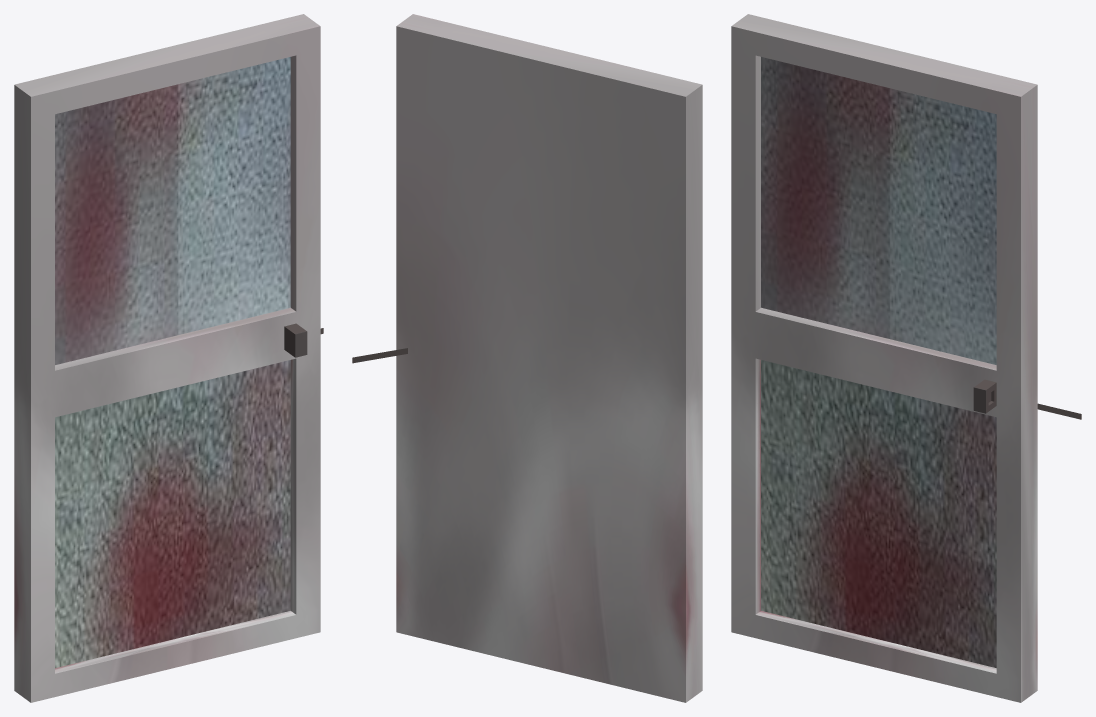
File: Puerta_18.fbx
3 views of the same model, side by side, from view 1: azimuth 30°, elevation 25°; view 2: azimuth 150°, elevation 25°; view 3: azimuth 330°, elevation 25° (orthographic).
Visible parts, largest first — view 1: Cube.010; view 2: Cube.010; view 3: Cube.010.
Boxes of the visible parts, bbox=[...] form: Cube.010: bbox=[14, 14, 323, 702]; Cube.010: bbox=[352, 14, 702, 702]; Cube.010: bbox=[731, 14, 1081, 702].
Bounding box in the file's own units: 222 × 400 × 47.46.
